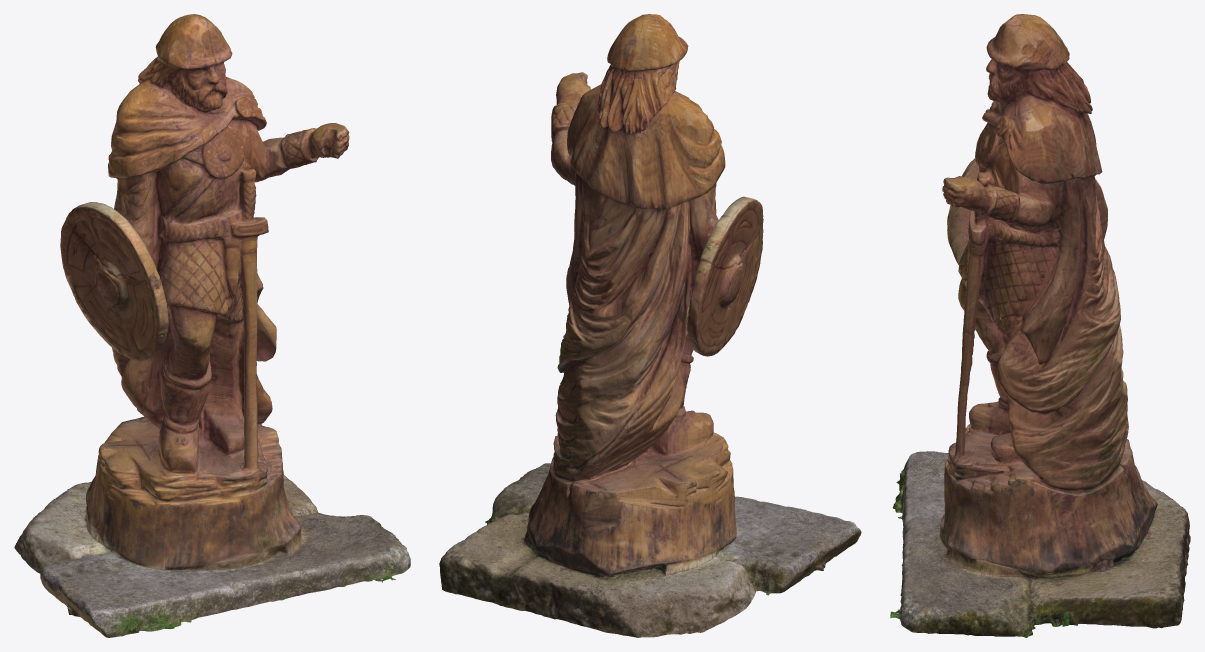
Rendered from warrior_wood_statue_scan.glb.
3 renders of one model, left to right at view 1: azimuth 30°, elevation 25°; view 2: azimuth 150°, elevation 25°; view 3: azimuth 270°, elevation 25°, orthographic.
Parts seen in each view (by area): view 1: Model_0; view 2: Model_0; view 3: Model_0.
Part boxes in pixels (<box>): Model_0: <box>14,14,410,637</box>; Model_0: <box>439,14,861,637</box>; Model_0: <box>890,14,1190,637</box>.
Size of the model in its own units: 1.49 by 2.45 by 1.22.
Materials: 1 (1 with a texture image).
